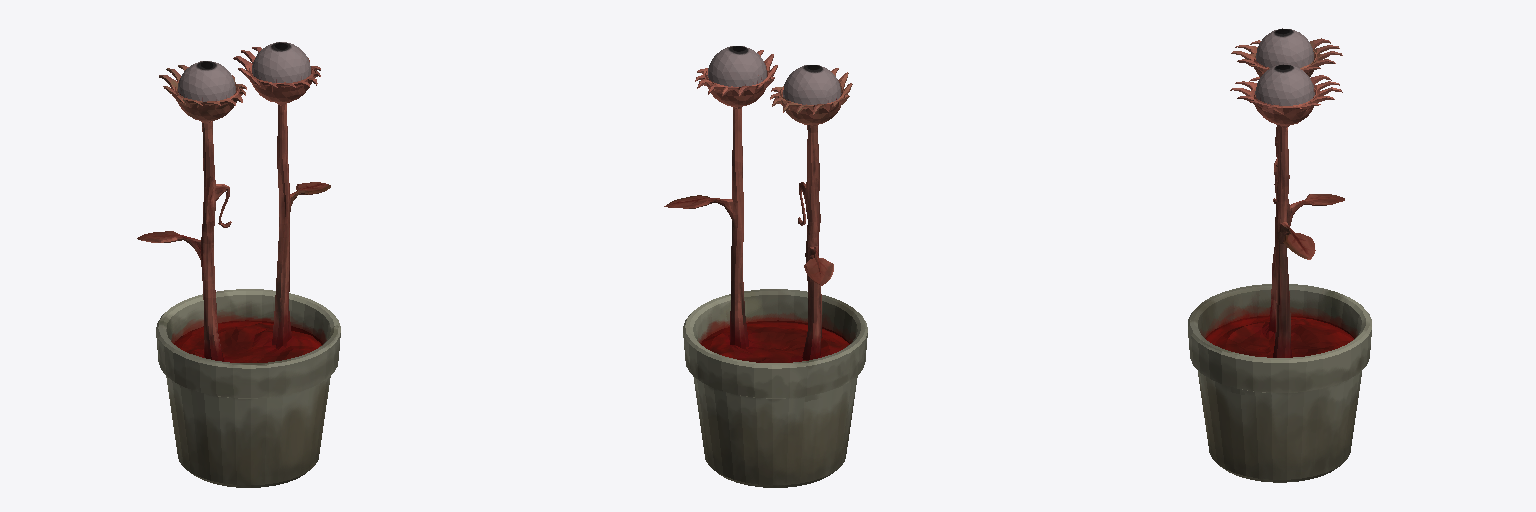
The picture shows the model from 3 angles: view 1: azimuth 30°, elevation 25°; view 2: azimuth 150°, elevation 25°; view 3: azimuth 270°, elevation 25°; orthographic projection.
Visible parts, largest first — view 1: Cube; view 2: Cube; view 3: Cube.
Boxes of the visible parts, box(x1,y1,x2,y2) form: Cube: box(137, 42, 340, 487); Cube: box(664, 46, 867, 487); Cube: box(1188, 28, 1371, 482).
Bounding box in the file's own units: 0.869 × 1.9 × 0.7835.
Materials: 1 (1 with a texture image).